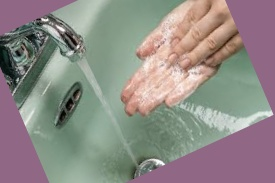washing hand: (5, 0, 251, 182)
